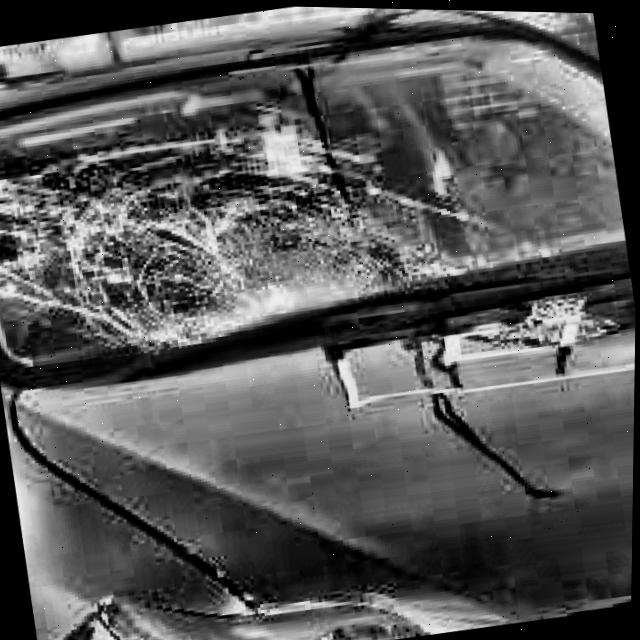glass_shatter: (68, 154, 353, 359)
